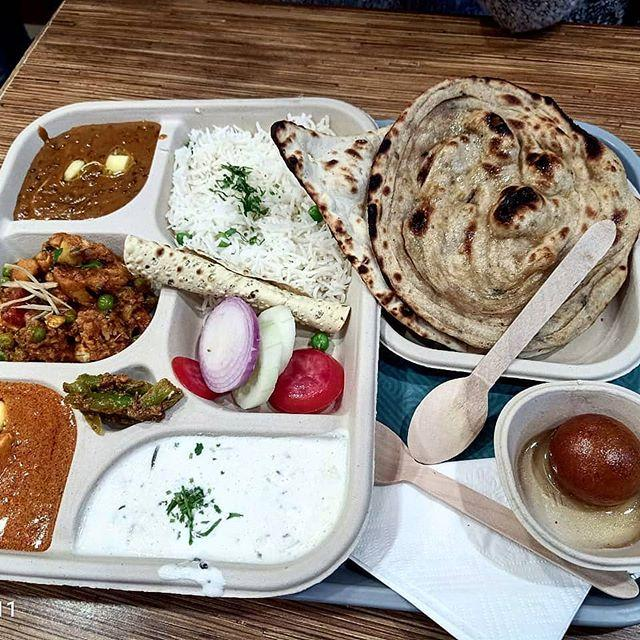Roti: (362, 72, 634, 360)
White Rice: (162, 117, 342, 301)
